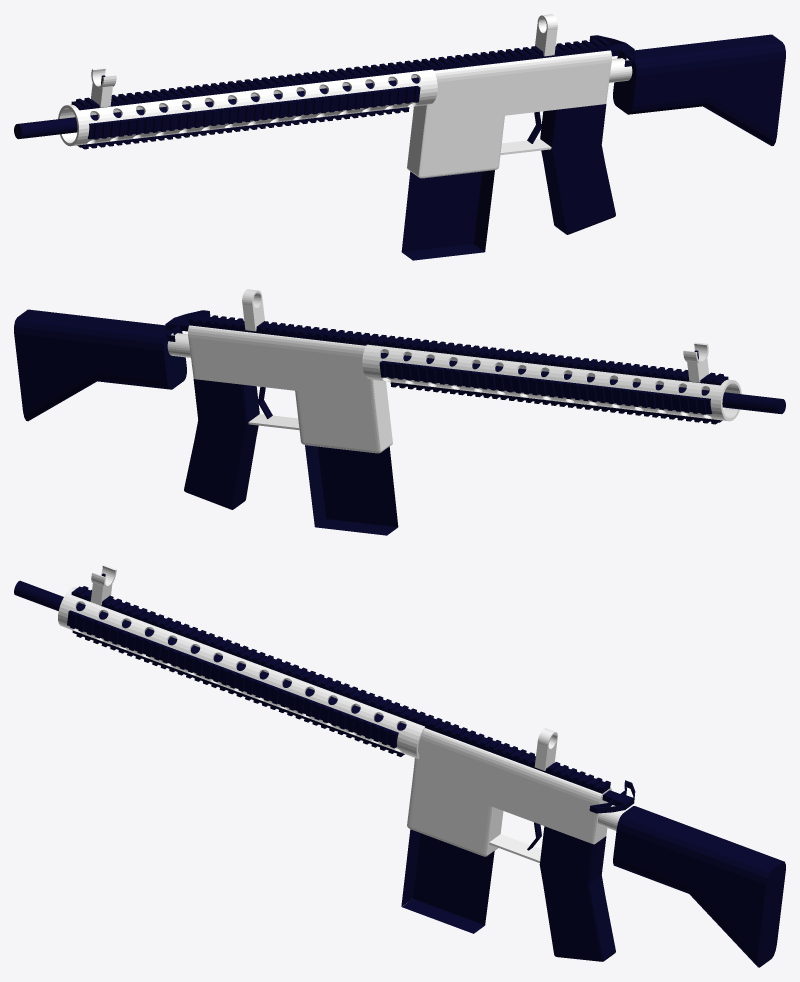
The model's file is stoner0004.obj.
3 renders of one model, top to bottom at view 1: azimuth 30°, elevation 25°; view 2: azimuth 150°, elevation 25°; view 3: azimuth 330°, elevation 25°, orthographic.
Visible parts, largest first — view 1: shoulderStock, upperReceiver, handGuard, rearPistolGrip, mag, picatinyRail, picatinyRailLeft, magWell, barrel, picatinyRailBottom, lowerTriggerGuard, rearSight (+2 smaller); view 2: shoulderStock, upperReceiver, handGuard, rearPistolGrip, mag, picatinyRail, picatinyRailRight, magWell, barrel, picatinyRailBottom, lowerTriggerGuard, rearSight (+2 smaller); view 3: shoulderStock, upperReceiver, rearPistolGrip, picatinyRail, handGuard, mag, picatinyRailLeft, magWell, barrel, picatinyRailBottom, lowerTriggerGuard.
Part boxes in pixels (left/top/right/bottom): shoulderStock: left=613, top=34, right=785, bottom=145; upperReceiver: left=413, top=50, right=611, bottom=124; handGuard: left=58, top=69, right=437, bottom=146; rearPistolGrip: left=540, top=104, right=615, bottom=234; mag: left=401, top=170, right=494, bottom=260; picatinyRail: left=71, top=38, right=610, bottom=110; picatinyRailLeft: left=87, top=85, right=420, bottom=139; magWell: left=407, top=115, right=504, bottom=178; barrel: left=14, top=77, right=419, bottom=139; picatinyRailBottom: left=77, top=107, right=409, bottom=149; lowerTriggerGuard: left=500, top=139, right=551, bottom=155; rearSight: left=535, top=24, right=557, bottom=56; shoulderStock: left=14, top=309, right=186, bottom=421; upperReceiver: left=188, top=325, right=386, bottom=399; handGuard: left=362, top=344, right=741, bottom=421; rearPistolGrip: left=184, top=379, right=259, bottom=509; mag: left=305, top=445, right=398, bottom=535; picatinyRail: left=189, top=313, right=728, bottom=385; picatinyRailRight: left=379, top=360, right=712, bottom=414; magWell: left=295, top=390, right=392, bottom=453; barrel: left=380, top=352, right=785, bottom=414; picatinyRailBottom: left=390, top=382, right=722, bottom=424; lowerTriggerGuard: left=248, top=414, right=299, bottom=430; rearSight: left=242, top=299, right=264, bottom=331; shoulderStock: left=613, top=806, right=785, bottom=967; upperReceiver: left=413, top=728, right=611, bottom=844; rearPistolGrip: left=539, top=826, right=615, bottom=961; picatinyRail: left=71, top=586, right=610, bottom=793; handGuard: left=58, top=587, right=424, bottom=758; mag: left=401, top=829, right=494, bottom=933; picatinyRailLeft: left=67, top=610, right=398, bottom=748; magWell: left=407, top=777, right=503, bottom=856; barrel: left=14, top=580, right=406, bottom=730; picatinyRailBottom: left=72, top=630, right=404, bottom=756; lowerTriggerGuard: left=489, top=834, right=541, bottom=862.
Size of the model in its own units: 8.96 by 3.05 by 0.7121.
